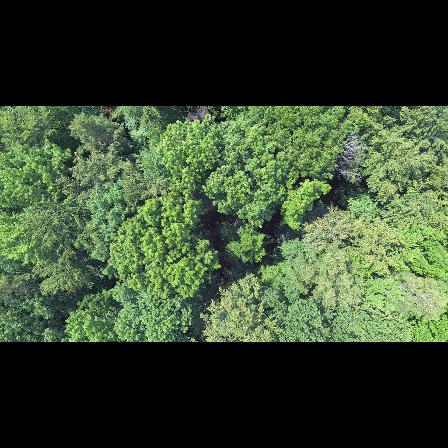Dead: (334, 129, 367, 185)
